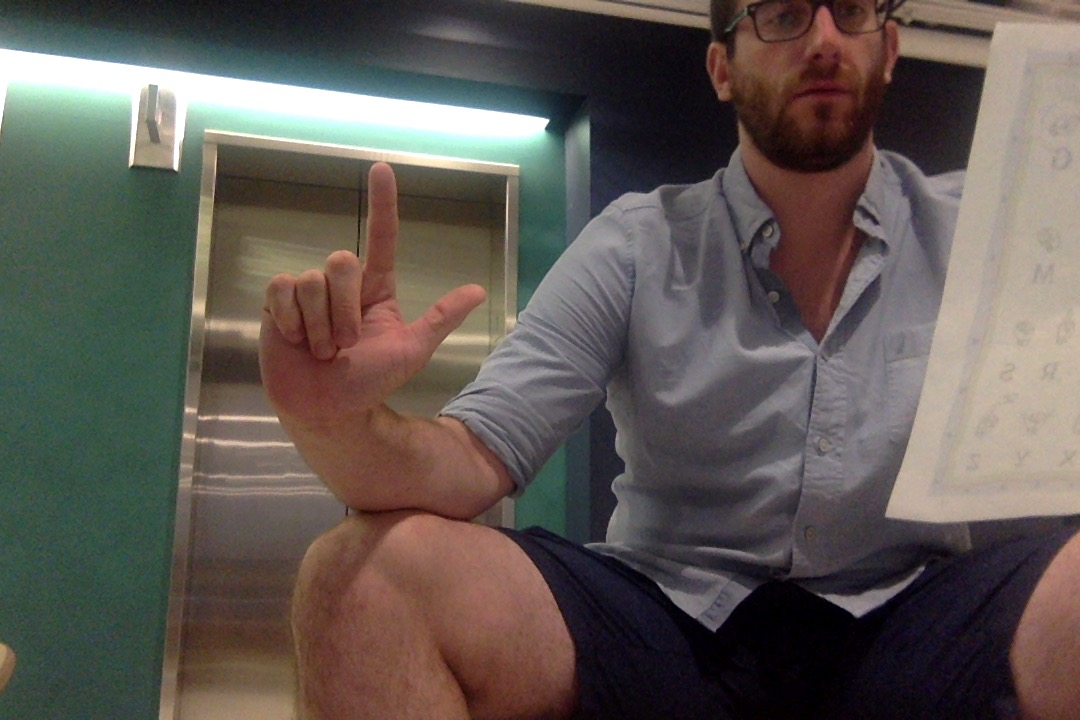l: (258, 159, 488, 424)
